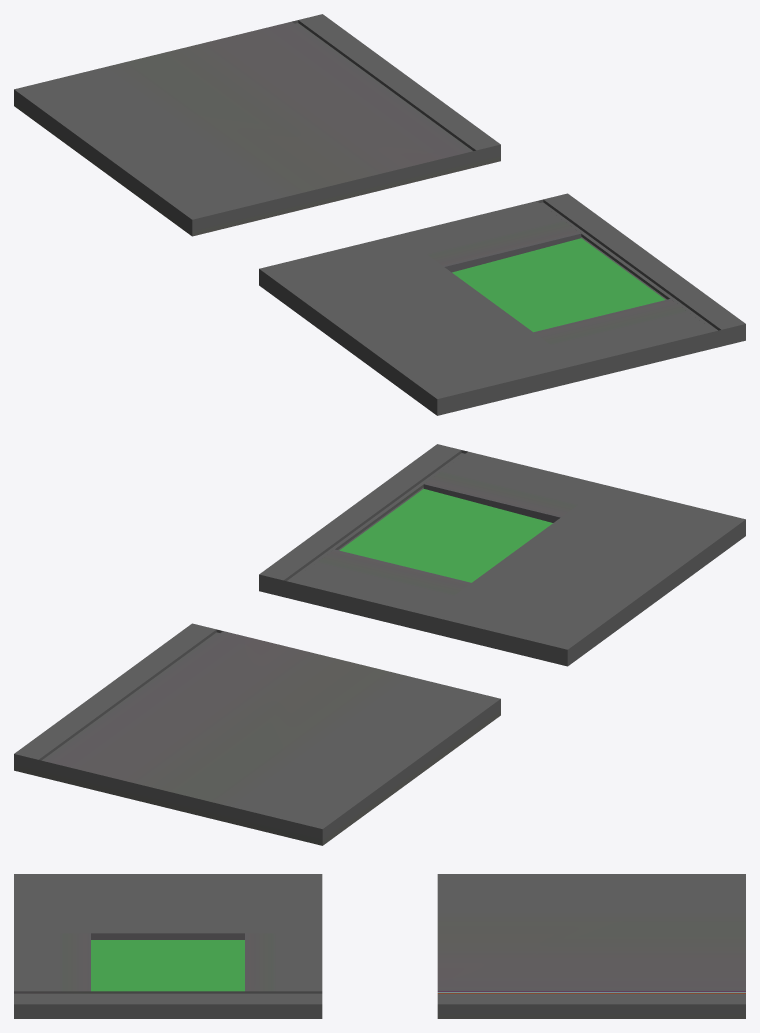
The model's file is SidewalkTiles.fbx.
3 views of the same model, one above another, from view 1: azimuth 30°, elevation 25°; view 2: azimuth 150°, elevation 25°; view 3: azimuth 270°, elevation 25° (orthographic). The views are drawn at different scales.
Parts seen in each view (by area): view 1: Cube, Cube.001; view 2: Cube, Cube.001; view 3: Cube, Cube.001.
Boxes of the visible parts, box(x1,y1,x2,y2) form: Cube: box(14, 14, 500, 236); Cube.001: box(259, 193, 745, 415); Cube: box(14, 623, 500, 845); Cube.001: box(259, 444, 745, 666); Cube: box(437, 874, 745, 1018); Cube.001: box(14, 874, 322, 1018).
Size of the model in its own units: 200 by 10.36 by 475.
